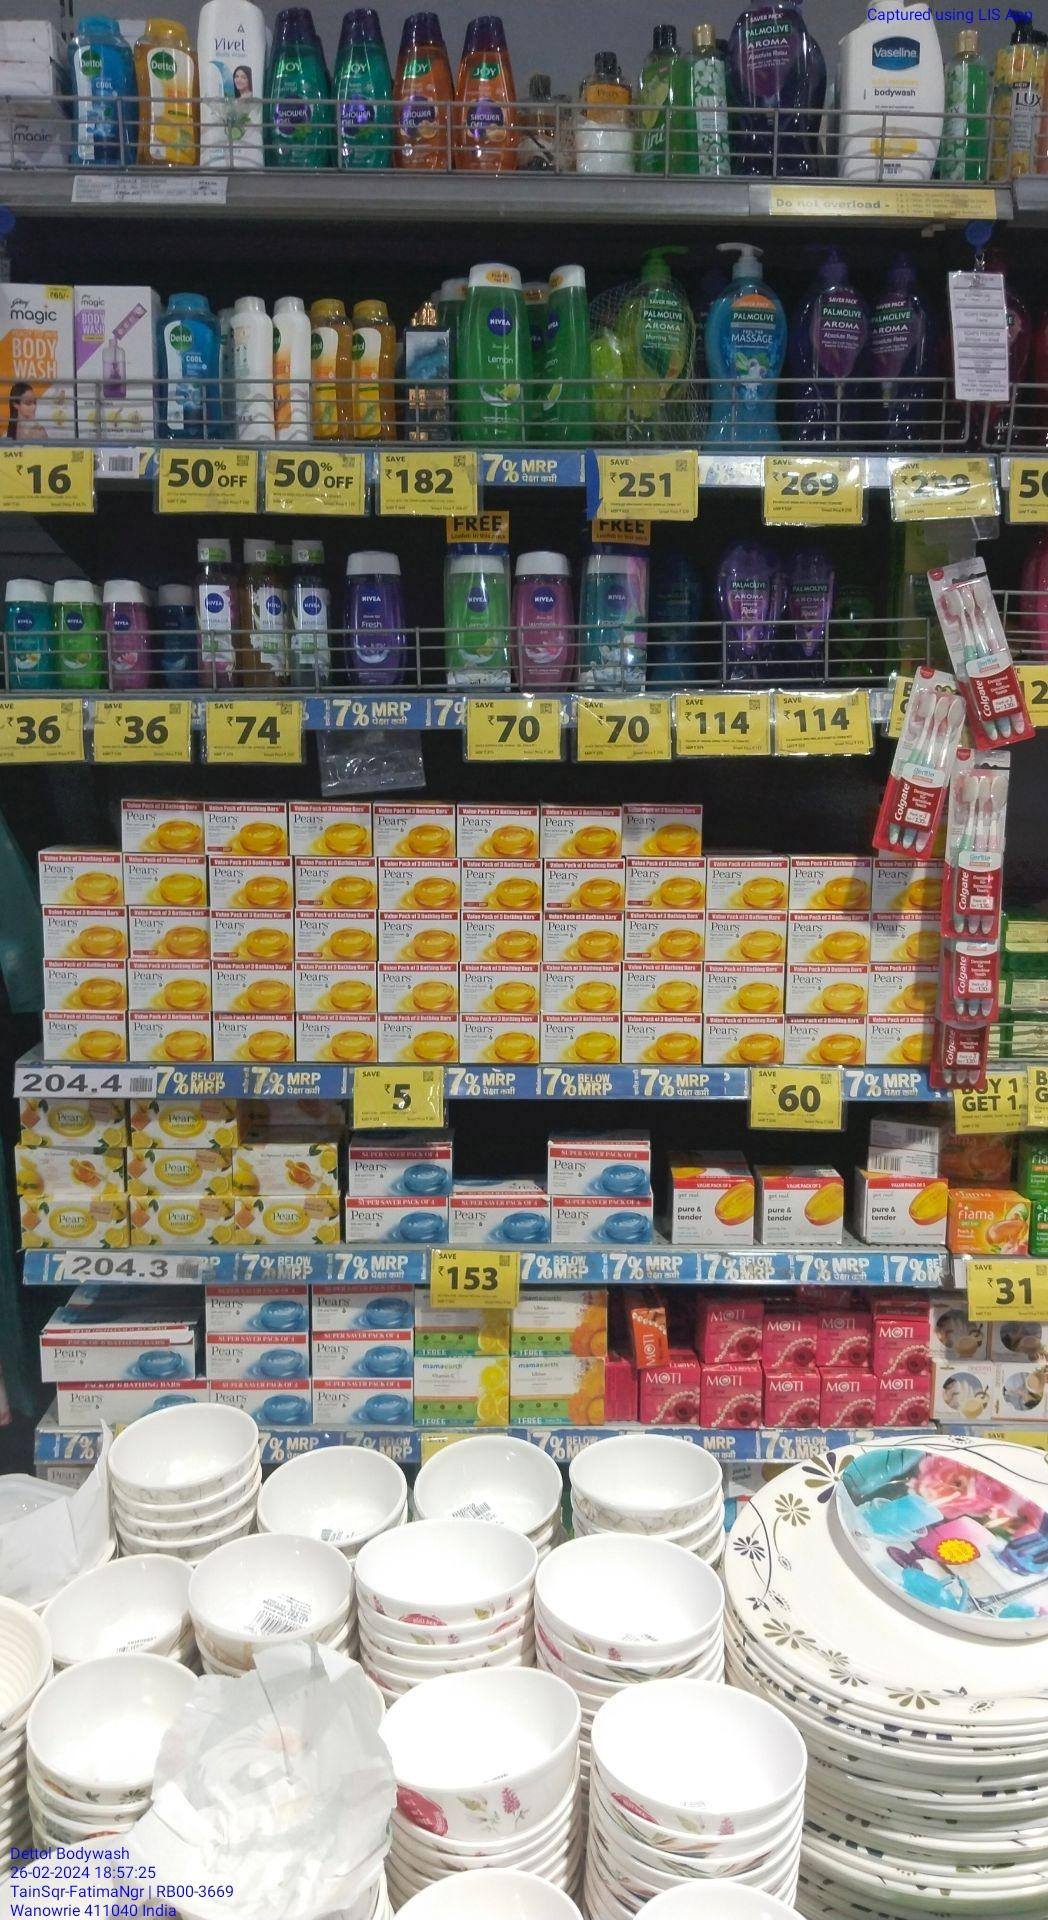Dettol_Bodywash_Cool: (70, 18, 134, 172), (159, 298, 223, 450)
Dettol_Bodywash_Refresh: (138, 13, 197, 168), (351, 302, 388, 440), (311, 299, 348, 437)
Joy_Shower_Gel_Mandarin_and_Lemongrass_250ML: (395, 9, 456, 179), (458, 15, 521, 178)
Joy_Shower_Gel_Mint_and_Eucalyptus_250ML: (267, 6, 328, 173), (334, 4, 392, 173)
Liril_Lime_and_Tea_Tree_Oil_Body_Wash_250ML: (636, 23, 681, 186), (947, 27, 989, 186)
Lux_Body_Wash_Skin_Detox_Freesia_Scent_and_Alove_Vera_245ML: (692, 23, 734, 181)
Nivea_Shower_Gel_Fresh_Powerfruit_250ML: (345, 547, 404, 695)
Nivea_Shower_Gel_Lemon_and_Oil_250ML: (466, 261, 528, 445), (539, 265, 583, 445)
Palmolive_Aroma_Morning_Tonic_Shower_Gel_250ML: (711, 535, 780, 690), (781, 534, 832, 685)
